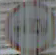Heavy Vehicles: (2, 1, 55, 52)
